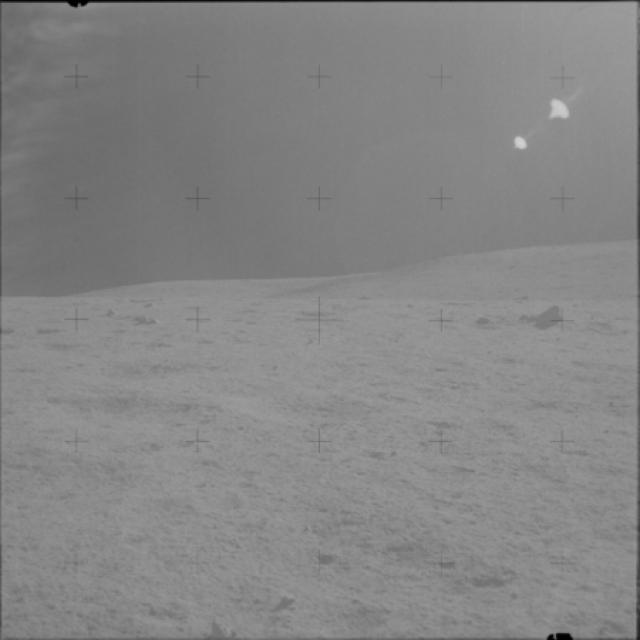crater: (38, 382, 203, 440), (215, 386, 392, 437), (37, 334, 90, 363)
rock: (517, 304, 571, 330), (203, 620, 246, 639), (126, 309, 158, 334), (310, 544, 339, 569), (96, 306, 130, 326), (272, 589, 301, 612), (472, 306, 499, 330)
